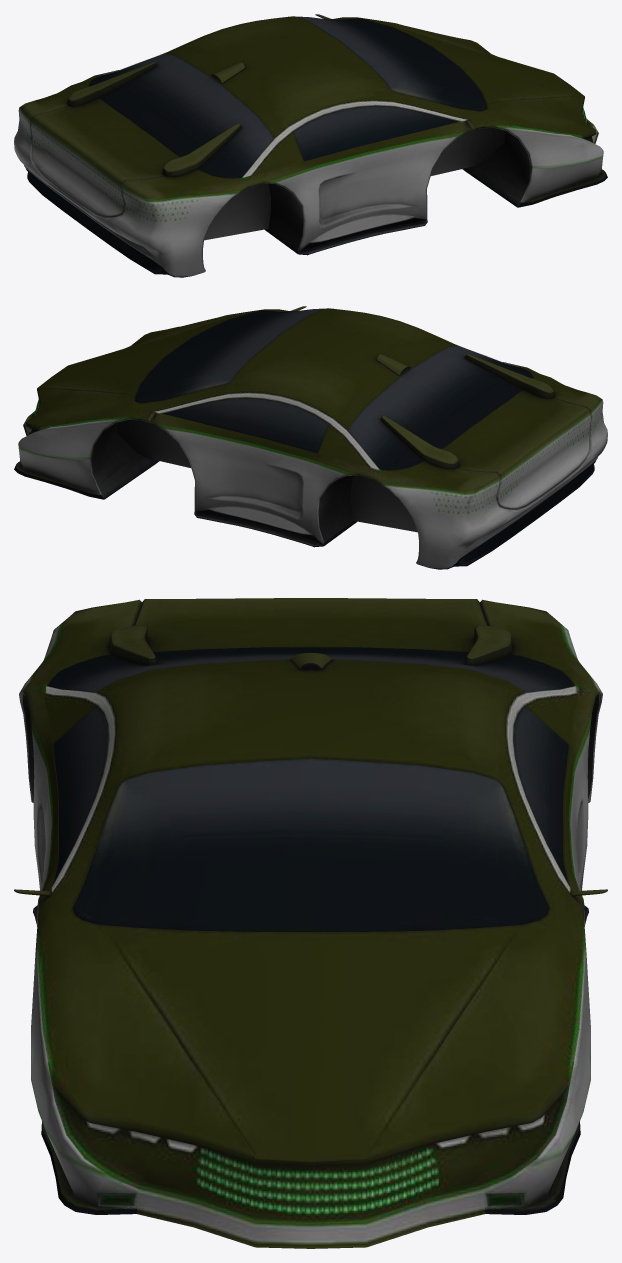
The model's file is f1_car_mercedes_03.dae.
3 views of the same model, one above another, from view 1: azimuth 30°, elevation 25°; view 2: azimuth 150°, elevation 25°; view 3: azimuth 270°, elevation 25° (orthographic). The views are drawn at different scales.
Parts seen in each view (by area): view 1: car_body; view 2: car_body; view 3: car_body.
Part boxes in pixels (x1,y1,x2,y2): car_body: (14,14,607,277); car_body: (14,306,607,569); car_body: (14,598,607,1248).
Bounding box in the file's own units: 0.3658 × 0.1927 × 0.0974.
1 material, 1 textured.
